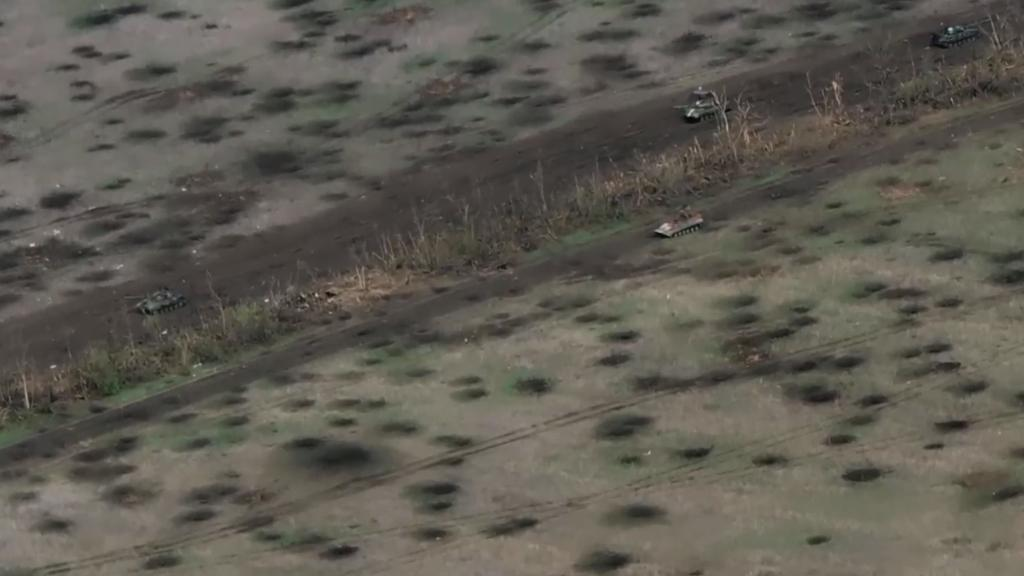APC-IFV: (650, 203, 706, 242)
TANK: (926, 13, 996, 52), (668, 85, 727, 124), (121, 281, 185, 314)
